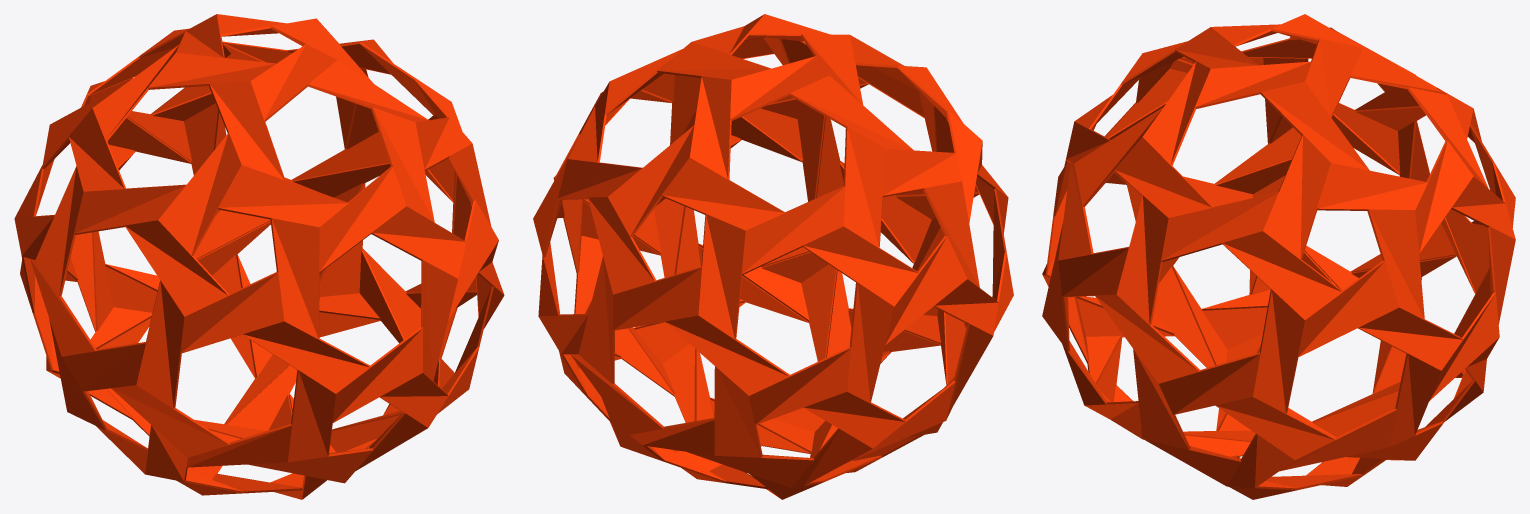
File: TruncatedIcosahedron.glb
3 renders of one model, left to right at view 1: azimuth 30°, elevation 25°; view 2: azimuth 150°, elevation 25°; view 3: azimuth 270°, elevation 25°, orthographic.
Visible parts, largest first — view 1: root; view 2: root; view 3: root.
Boxes of the visible parts, left/top/right/bottom form: root: left=14, top=14, right=504, bottom=499; root: left=533, top=14, right=1013, bottom=499; root: left=1042, top=14, right=1515, bottom=499.
Bounding box in the file's own units: 8.74 × 8.38 × 8.6.
